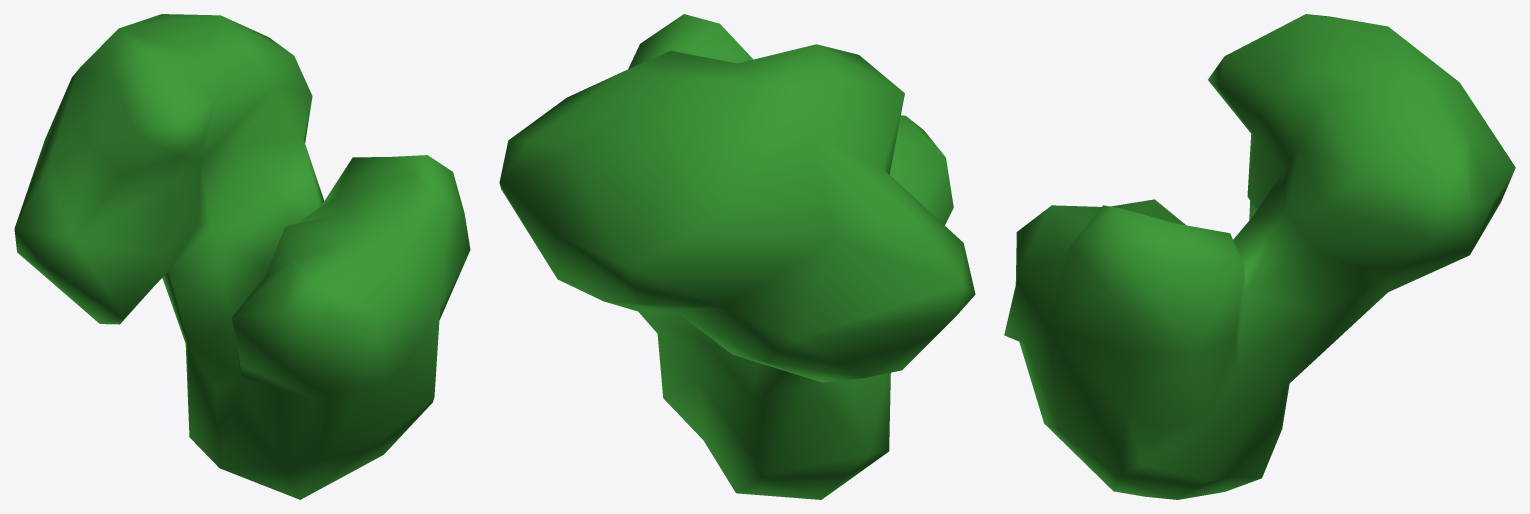
File: Mgenitalium_ecoD_1ydx_0_1_0.dae
3 renders of one model, left to right at view 1: azimuth 30°, elevation 25°; view 2: azimuth 150°, elevation 25°; view 3: azimuth 270°, elevation 25°, orthographic. The views are drawn at different scales.
Visible parts, largest first — view 1: CoarseMS_1ydx; view 2: CoarseMS_1ydx; view 3: CoarseMS_1ydx.
Part boxes in pixels (x1,y1,x2,y2): CoarseMS_1ydx: (14, 14, 470, 499); CoarseMS_1ydx: (499, 14, 975, 499); CoarseMS_1ydx: (1004, 14, 1515, 499).
Bounding box in the file's own units: 71.11 × 75.35 × 80.14.
